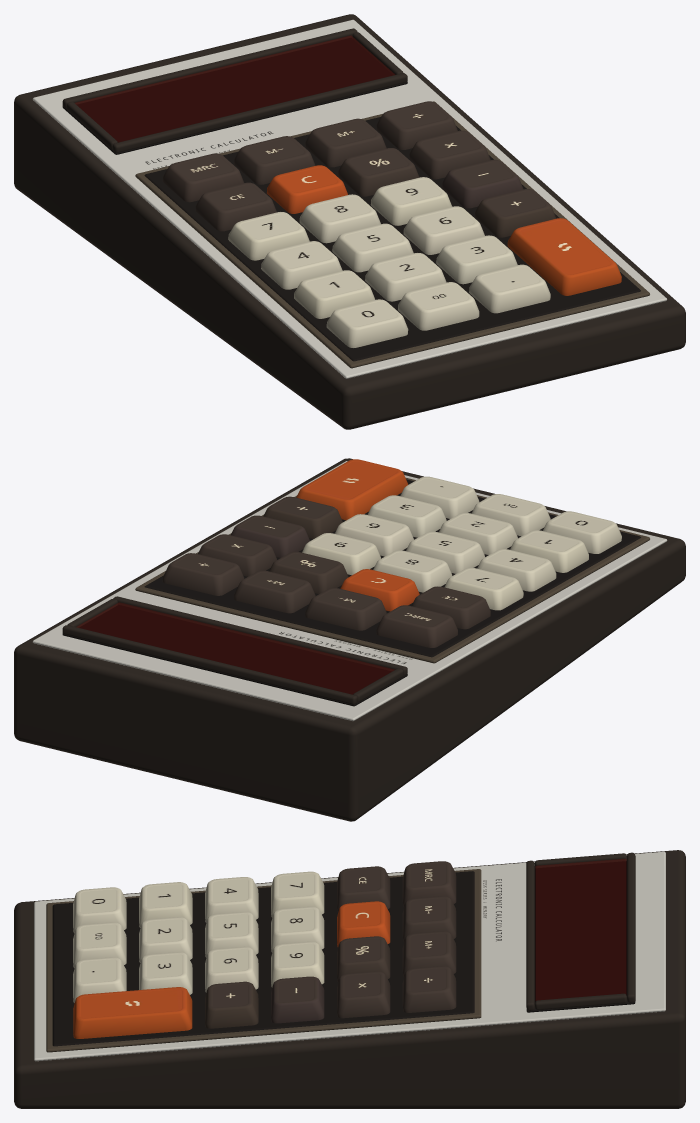
File: calculator.glb
3 views of the same model, one above another, from view 1: azimuth 30°, elevation 25°; view 2: azimuth 150°, elevation 25°; view 3: azimuth 270°, elevation 25° (orthographic).
Visible parts, largest first — view 1: Housing, Aluminium faceplate, Smoked red filter, Display, Recessed keyboard bed, Key_=, Keyboard surround, Display bezel front, Key_., Key_00, Key_0, Display bezel rear (+21 smaller); view 2: Housing, Aluminium faceplate, Smoked red filter, Display, Recessed keyboard bed, Key_=, Keyboard surround, Display bezel rear, Key_MRC, Display bezel front, Key_M+, Key_M− (+21 smaller); view 3: Housing, Aluminium faceplate, Recessed keyboard bed, Smoked red filter, Display, Key_=, Keyboard surround, Key_÷, Key_−, Key_×, Key_+, Key_MRC (+21 smaller).
Part boxes in pixels (x1,y1,x2,y2): Housing: (14,14,685,429); Aluminium faceplate: (32,19,667,378); Smoked red filter: (75,35,395,142); Display: (77,38,393,142); Recessed keyboard bed: (144,117,640,361); Key_=: (507,218,621,295); Keyboard surround: (135,101,649,368); Display bezel front: (112,73,407,152); Key_.: (469,264,550,313); Key_00: (398,282,479,330); Key_0: (326,299,408,347); Display bezel rear: (62,28,357,107); Housing: (14,458,685,821); Aluminium faceplate: (32,461,667,720); Smoked red filter: (76,602,394,694); Display: (79,605,391,694); Recessed keyboard bed: (144,479,640,657); Key_=: (296,459,408,520); Keyboard surround: (135,478,649,663); Display bezel rear: (62,625,357,704); Key_MRC: (376,605,457,647); Display bezel front: (113,596,407,675); Key_M+: (234,570,315,613); Key_M−: (305,588,386,630); Housing: (14,850,685,1108); Aluminium faceplate: (34,851,665,1061); Recessed keyboard bed: (52,871,474,1046); Smoked red filter: (535,858,626,1000); Display: (535,861,626,1001); Key_=: (73,987,192,1038); Keyboard surround: (46,869,481,1052); Key_÷: (402,966,456,1012); Key_−: (271,976,324,1023); Key_×: (337,971,390,1018); Key_+: (205,981,258,1028); Key_MRC: (402,861,456,906).
Bounding box in the file's own units: 0.095 × 0.029 × 0.16.
9 materials, 2 textured.
